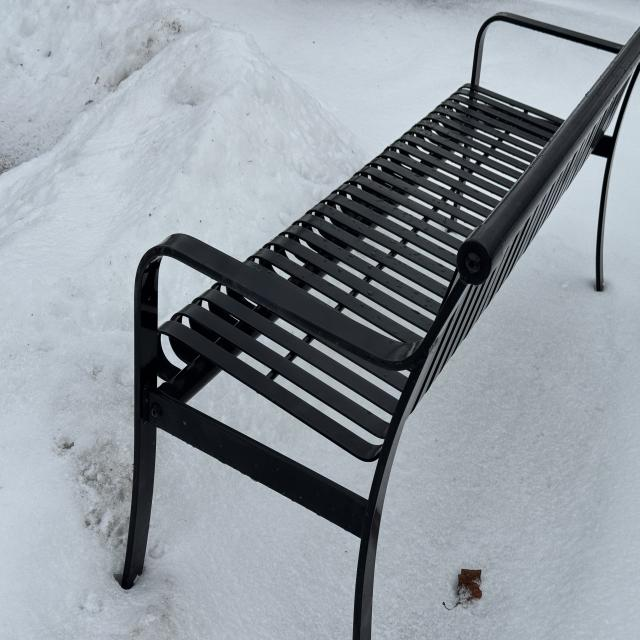Bench: (79, 208, 546, 636)
